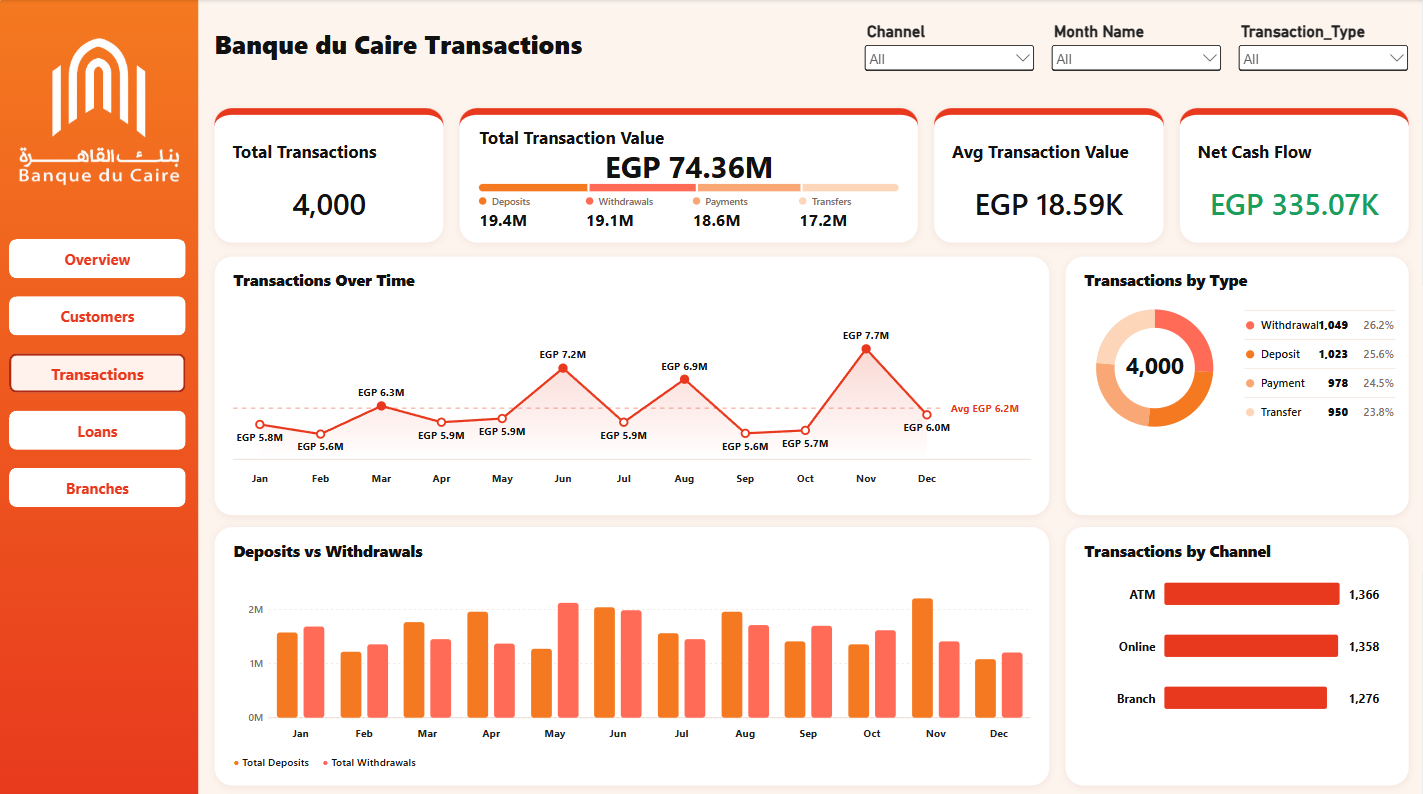

This screenshot's page, from the dashboard's own definition file:
{"tool":"powerbi","page":{"name":"Transactions","canvas":[1920,1080],"ordinal":3},"visuals":[{"type":"htmlContent443BE3AD55E043BF878BED274D3A6855","fields":{"content":["Html.HTML Banque Transactions"]},"box":[0,0,1920,1080],"z":0},{"type":"image","box":[38.4,0,195,240.5],"z":1000},{"type":"image","box":[0,162.5,255,131.2],"z":2000},{"type":"slicer","fields":{"Values":["Transactions Fact.Transaction_Type"]},"box":[1667.3,30.8,238.5,76.9],"z":3000},{"type":"slicer","fields":{"Values":["Date Dim.Month Name"]},"box":[1415.4,30.8,238.3,76.7],"z":4000},{"type":"slicer","fields":{"Values":["Transactions Fact.Channel"]},"box":[1163.5,30.8,238.3,76.7],"z":5000},{"type":"pageNavigator","box":[16.7,323.3,238.9,361.1],"z":6000}]}

Visuals, with their boxes in screenshot pixels (x1, y1, x2, y2), scaled from the page's 1920x1080 canvas onto the 1423x794 screenshot:
htmlContent443BE3AD55E043BF878BED274D3A6855 - Html.HTML Banque Transactions: <region>0, 0, 1422, 793</region>
image: <region>28, 0, 173, 177</region>
image: <region>0, 119, 189, 216</region>
slicer - Transactions Fact.Transaction_Type: <region>1236, 23, 1412, 79</region>
slicer - Date Dim.Month Name: <region>1049, 23, 1226, 79</region>
slicer - Transactions Fact.Channel: <region>862, 23, 1039, 79</region>
pageNavigator: <region>12, 238, 189, 503</region>
